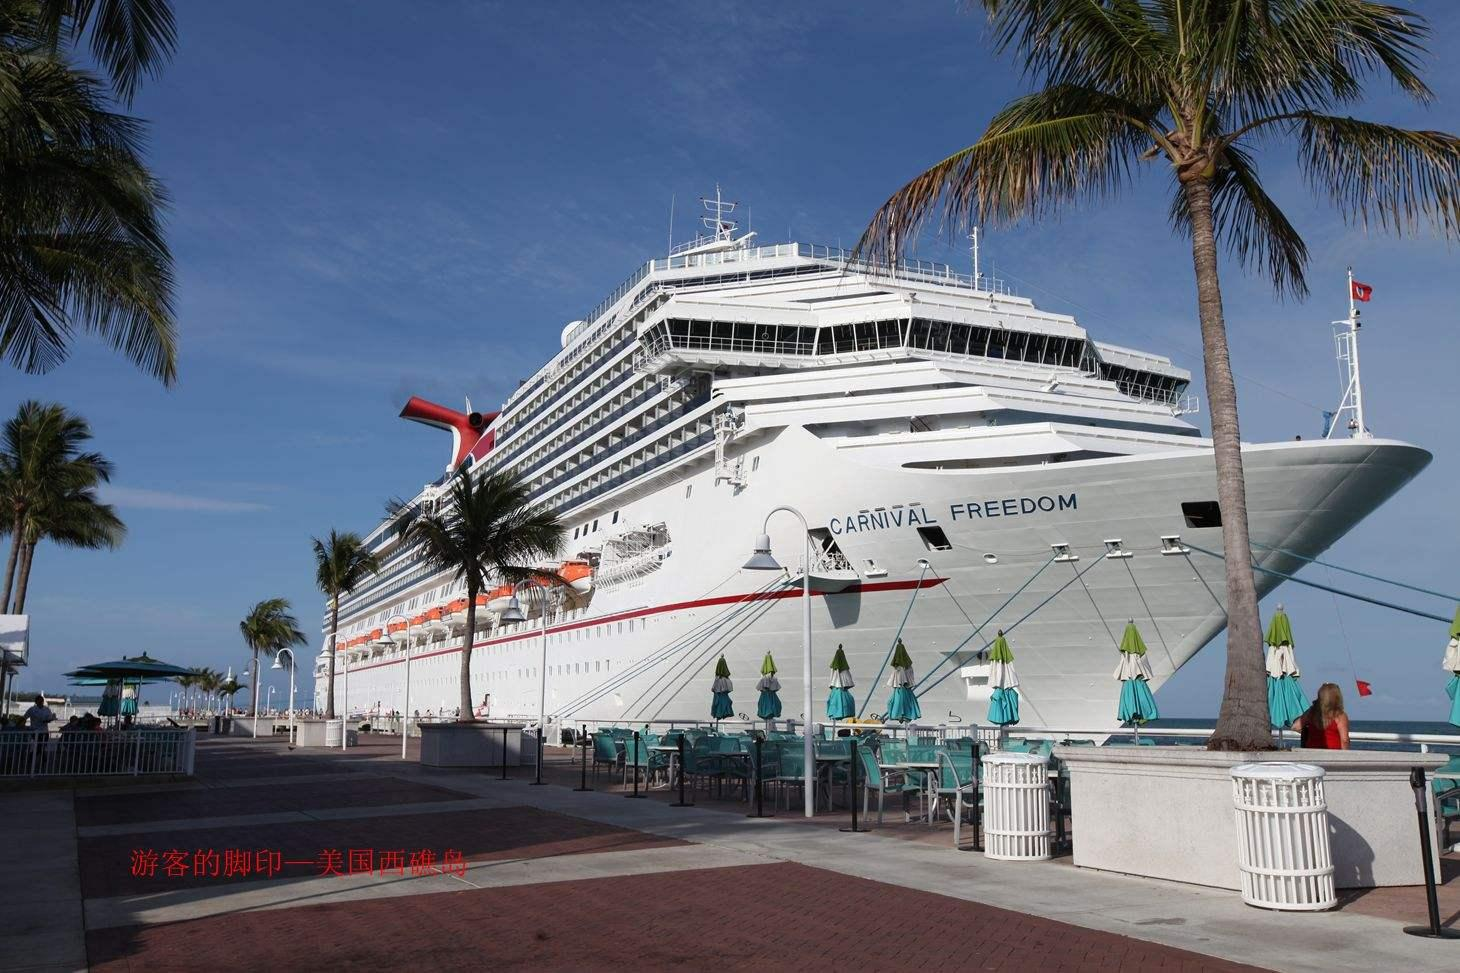youlun: (301, 186, 1433, 753)
